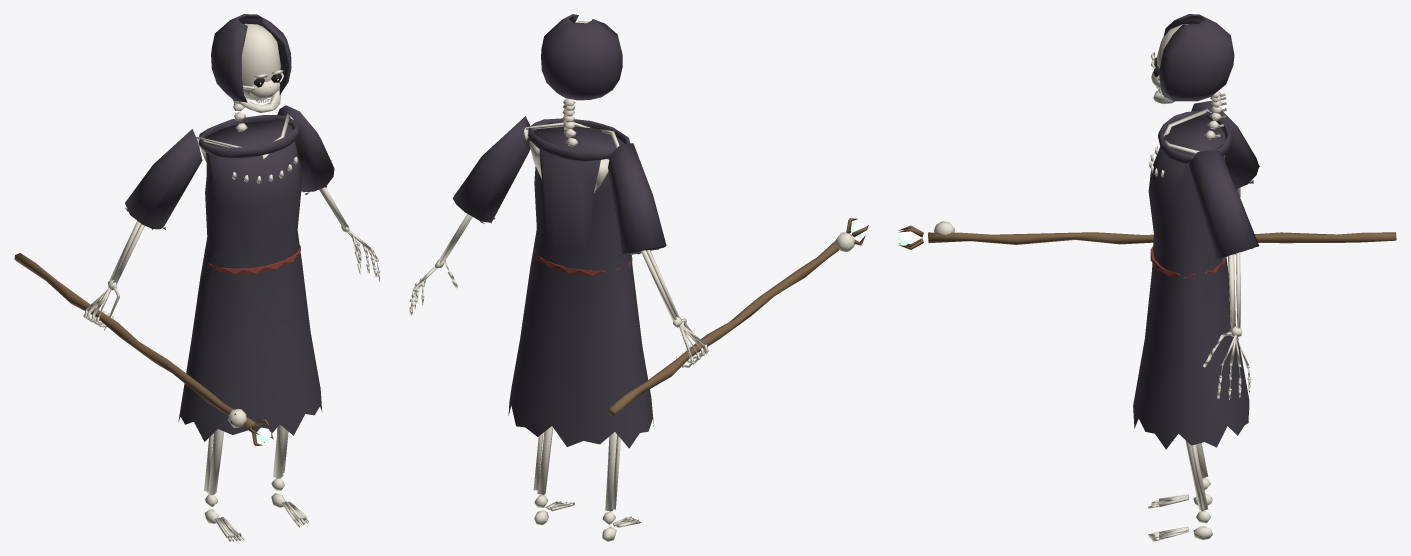
Rendered from hero_4.glb.
3 renders of one model, left to right at view 1: azimuth 30°, elevation 25°; view 2: azimuth 150°, elevation 25°; view 3: azimuth 270°, elevation 25°, orthographic. The views are drawn at different scales.
Parts seen in each view (by area): view 1: hero_4__OW_Enemy_SkeletonHorde_Necromancer_MESH_d; view 2: hero_4__OW_Enemy_SkeletonHorde_Necromancer_MESH_d; view 3: hero_4__OW_Enemy_SkeletonHorde_Necromancer_MESH_d.
Part boxes in pixels (x1,y1,x2,y2): hero_4__OW_Enemy_SkeletonHorde_Necromancer_MESH_d: [14, 14, 380, 541]; hero_4__OW_Enemy_SkeletonHorde_Necromancer_MESH_d: [409, 14, 868, 541]; hero_4__OW_Enemy_SkeletonHorde_Necromancer_MESH_d: [897, 14, 1396, 541].
Bounding box in the file's own units: 1.18 × 1.94 × 1.74.
